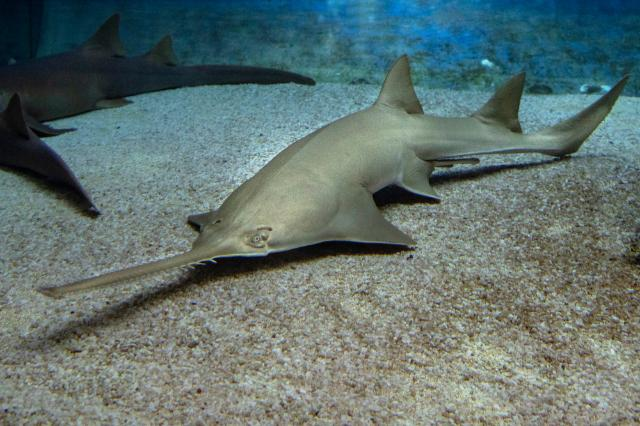Sirip Ekor: (549, 68, 633, 168)
Sirip Punggung: (368, 46, 532, 134)
